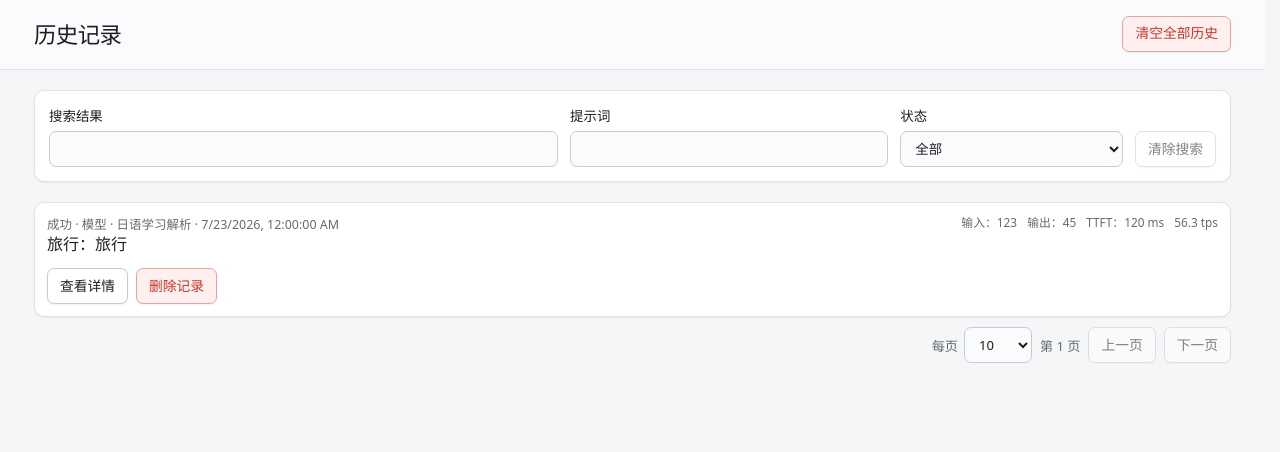
History › updates results when filters change and clears all filters
Expected: the text "旅行：旅行" is shown, [47,233,127,255]
Type "旅行" into the field labelled "搜索结果" at (304, 149), box [49,131,558,167]
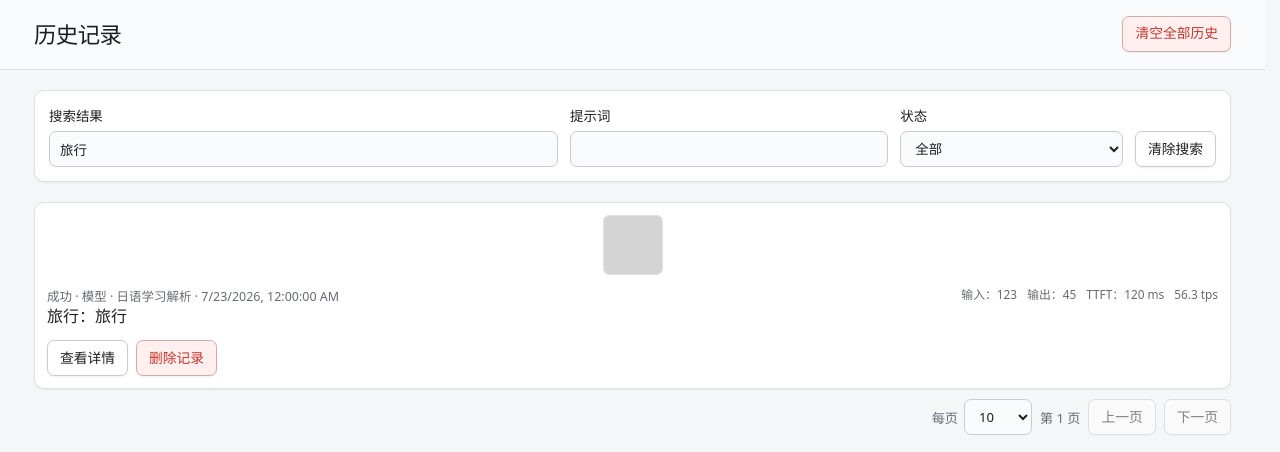
Type "日语" into the field labelled "提示词" at (729, 149), box [570,131,888,167]
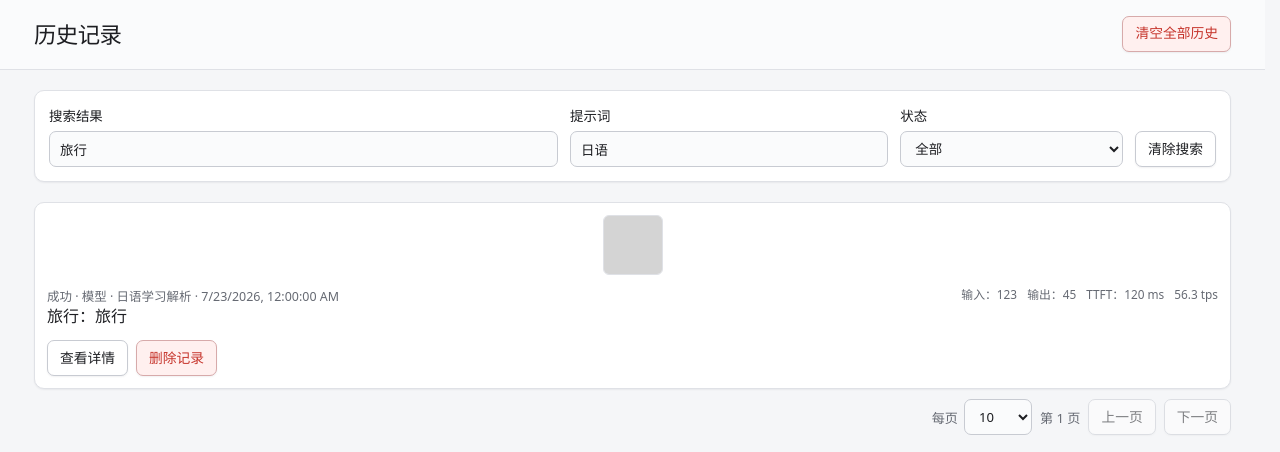
Select "成功" in the dropdown labelled "状态" at (1012, 149), box [900,131,1123,167]
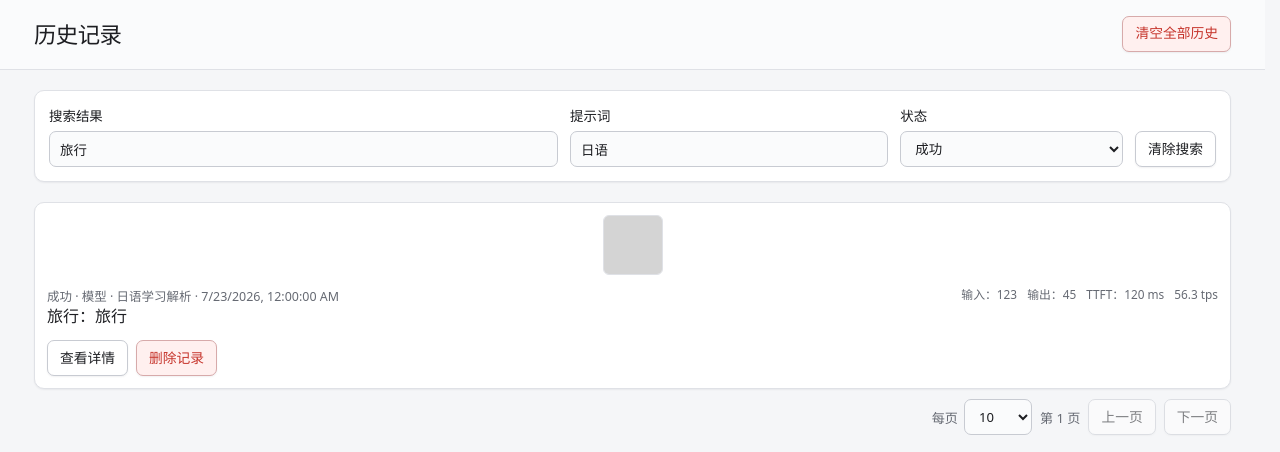
Click the button "清除搜索" at (1176, 149), box [1135,131,1216,167]
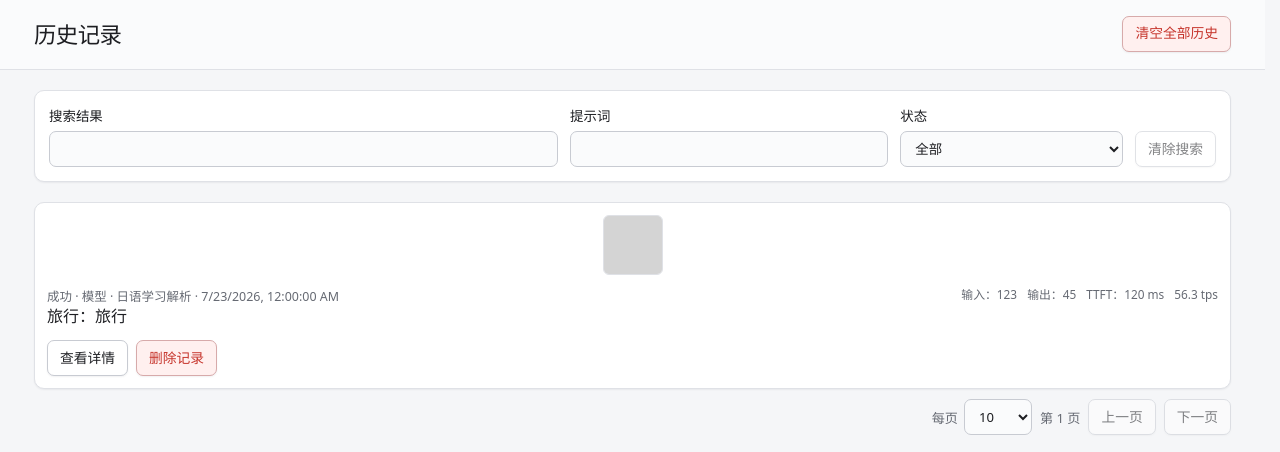
Expected: the field labelled "搜索结果" is empty, [49,131,558,167]
Expected: the field labelled "提示词" is empty, [570,131,888,167]
